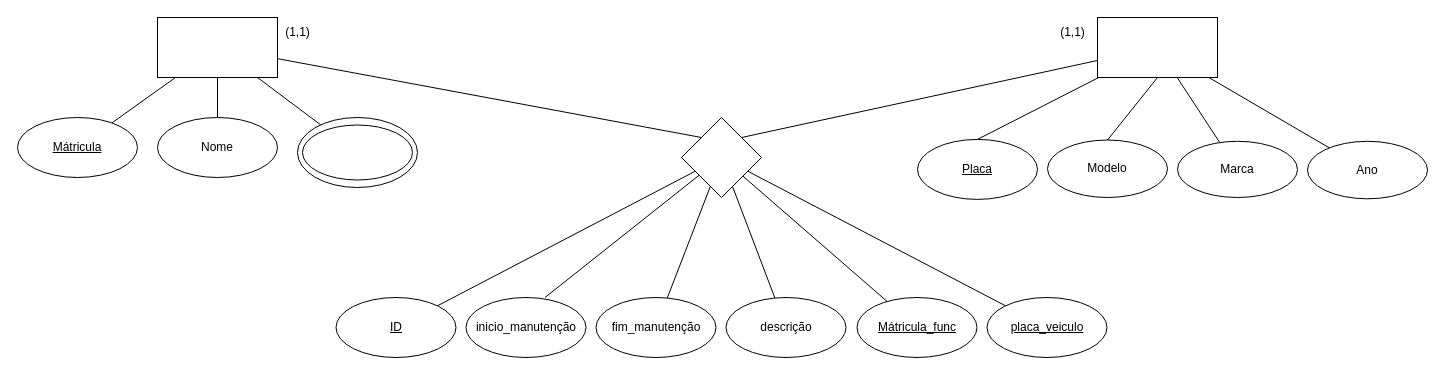
Image size: 1445x375. Some labels were removed from this diagram. Here are the shapes that lost their labels. From the top down, the centre of each, then its label:
At [217,47]: "Funcionário".
At [1157,47]: "Veículo".
At [357,152]: "Telefone".
At [721,157]: "Manutenção".
